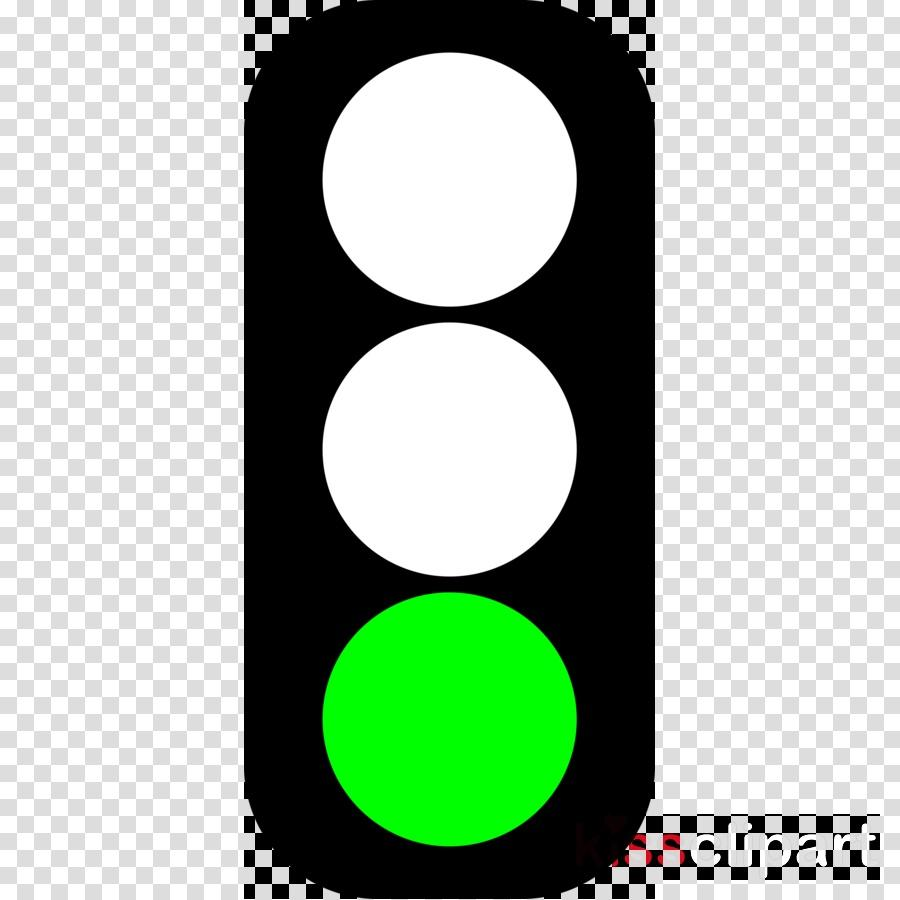Traffic light green: (228, 5, 678, 872)
